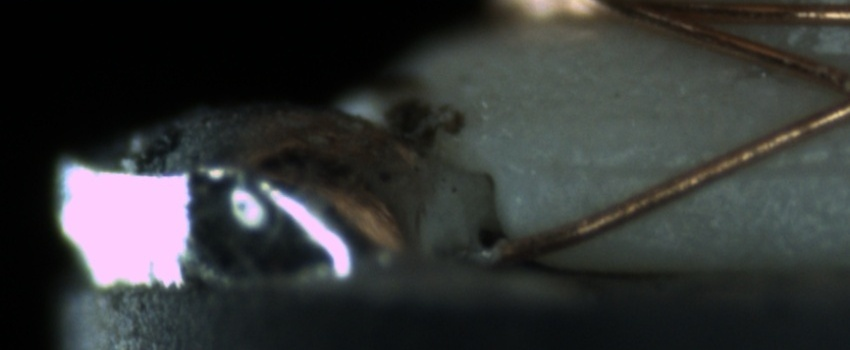CL: (808, 56, 850, 126)
DL: (540, 138, 850, 197)
